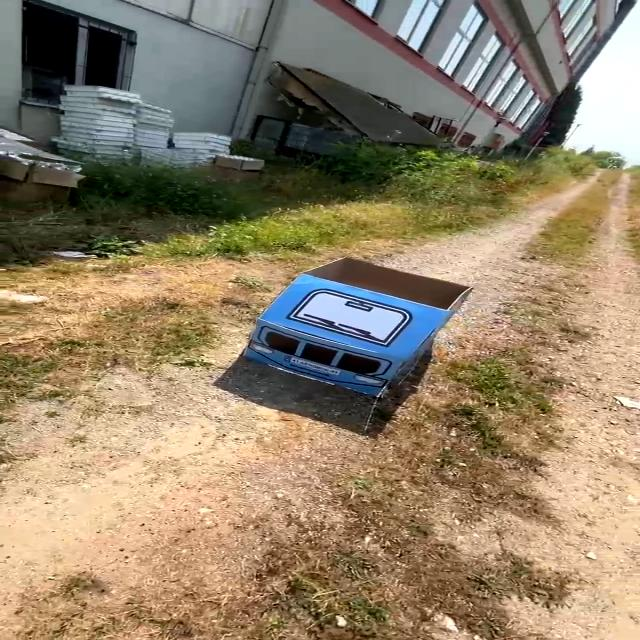blue_car: (221, 255, 487, 404)
